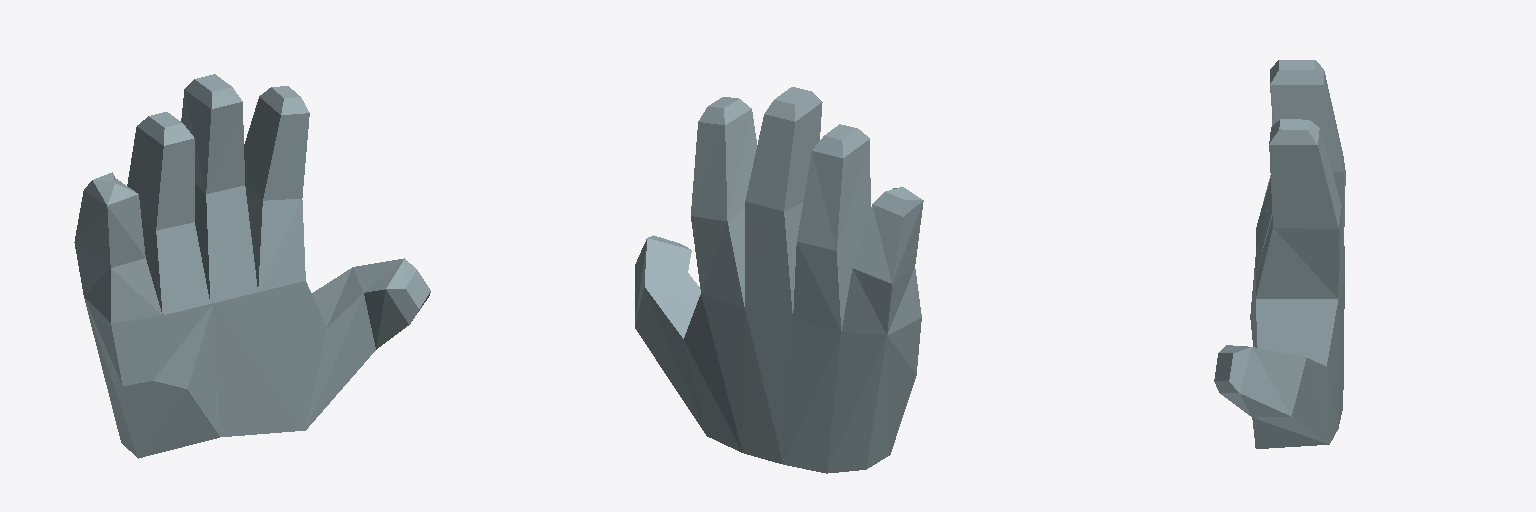
The model's file is hand.obj.
3 renders of one model, left to right at view 1: azimuth 30°, elevation 25°; view 2: azimuth 150°, elevation 25°; view 3: azimuth 270°, elevation 25°, orthographic.
Parts seen in each view (by area): view 1: group[number redacted]; view 2: group[number redacted]; view 3: group[number redacted].
Part boxes in pixels (bbox=[...]): group[number redacted]: bbox=[74, 74, 430, 458]; group[number redacted]: bbox=[635, 87, 923, 473]; group[number redacted]: bbox=[1214, 60, 1345, 448].
Size of the model in its own units: 0.2575 by 0.28 by 0.0955.